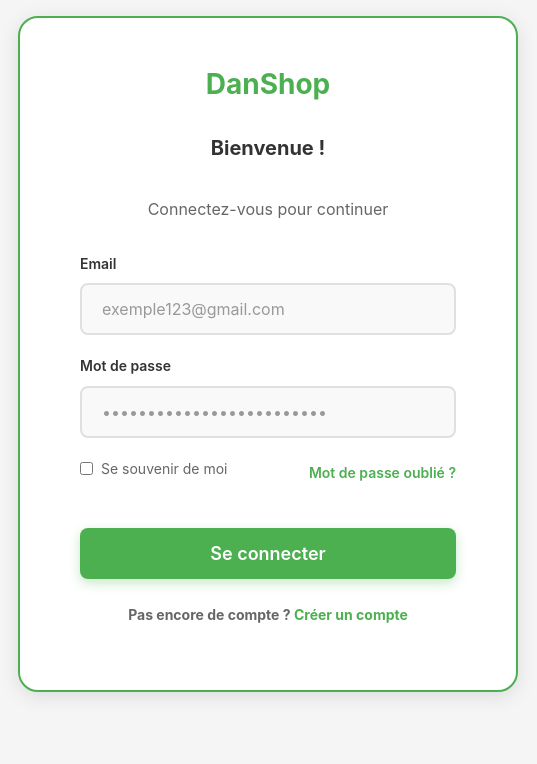
Test case: Login - Tests Unitaires › Validation du formulaire › devrait afficher une erreur si le mot de passe est invalide (trop court)
Type "test@example.com" into the field with placeholder "exemple123@gmail.com".
click(268, 309); type("test@example.com")  # box x1=102 y1=299 x2=434 y2=319
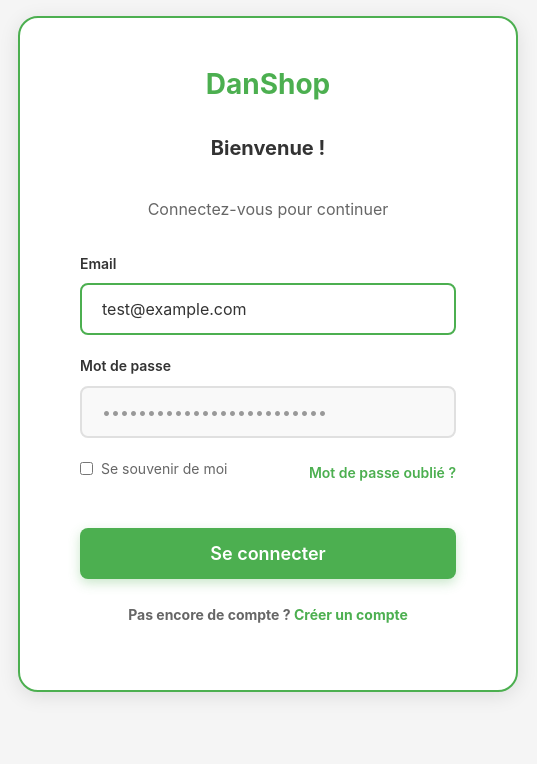
Type "pass" into the password field with placeholder "•••••••••••••••••••••••••".
click(268, 412); type("pass")  # box x1=102 y1=402 x2=434 y2=422
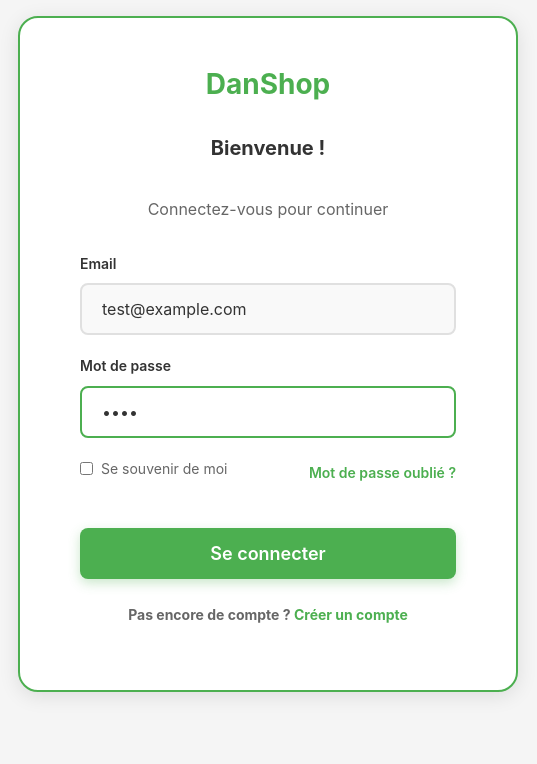
Click the button "Se connecter".
click(268, 554)  # box x1=80 y1=528 x2=456 y2=579
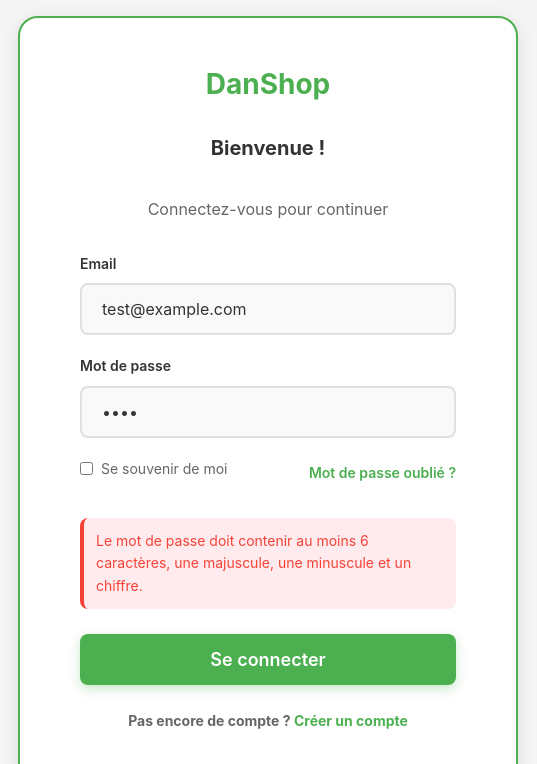
Expected: the text "Le mot de passe doit contenir" is shown, x1=96 y1=532 x2=411 y2=594
